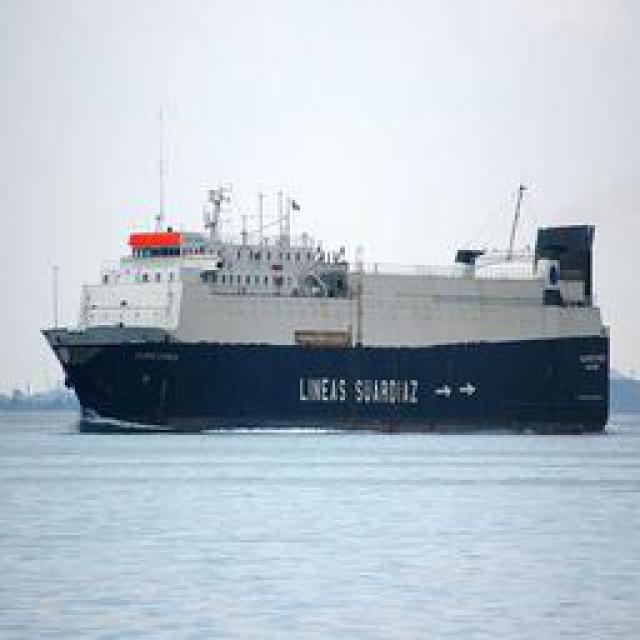Ship: (41, 173, 618, 432)
